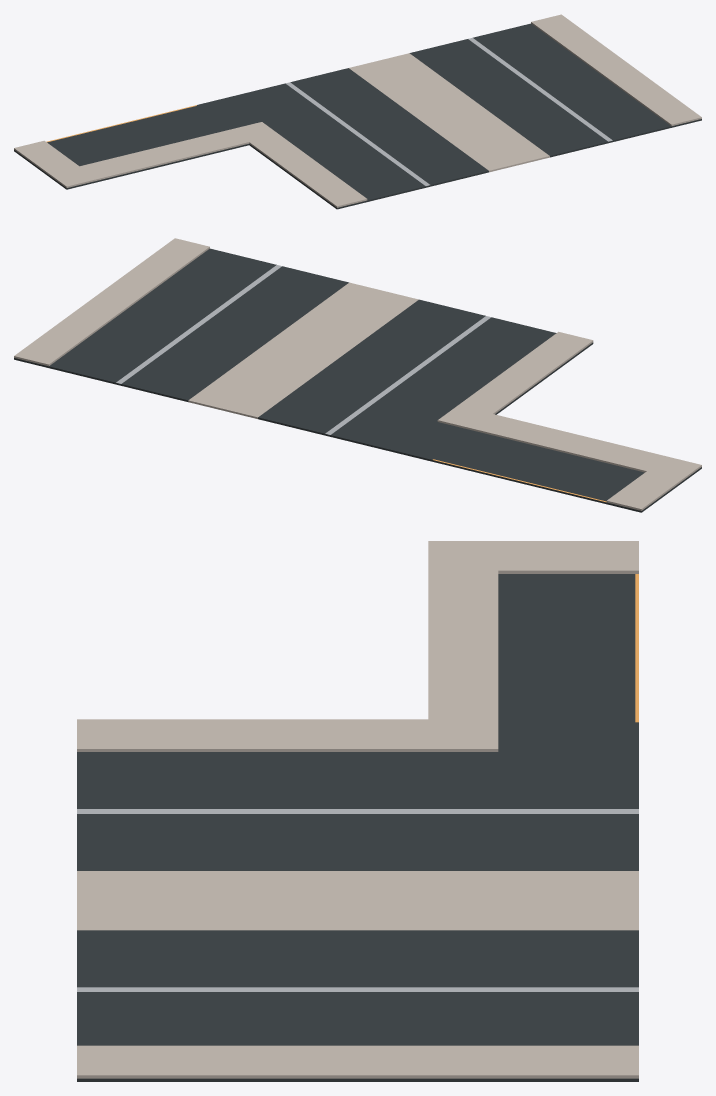
Rendered from SM_road_024.glb.
The picture shows the model from 3 angles, top to bottom: view 1: azimuth 30°, elevation 25°; view 2: azimuth 150°, elevation 25°; view 3: azimuth 270°, elevation 25°; orthographic projection. The views are drawn at different scales.
Visible parts, largest first — view 1: SM_road_024; view 2: SM_road_024; view 3: SM_road_024.
Part boxes in pixels (<box>): SM_road_024: <box>14,14,701,209</box>; SM_road_024: <box>14,238,701,512</box>; SM_road_024: <box>77,541,638,1081</box>.
Size of the model in its own units: 18 by 0.1 by 8.
1 material, 1 textured.
